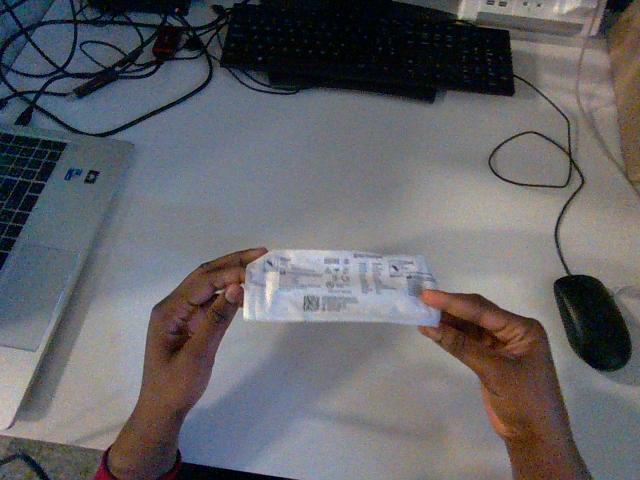syringe: (243, 250, 439, 325)
